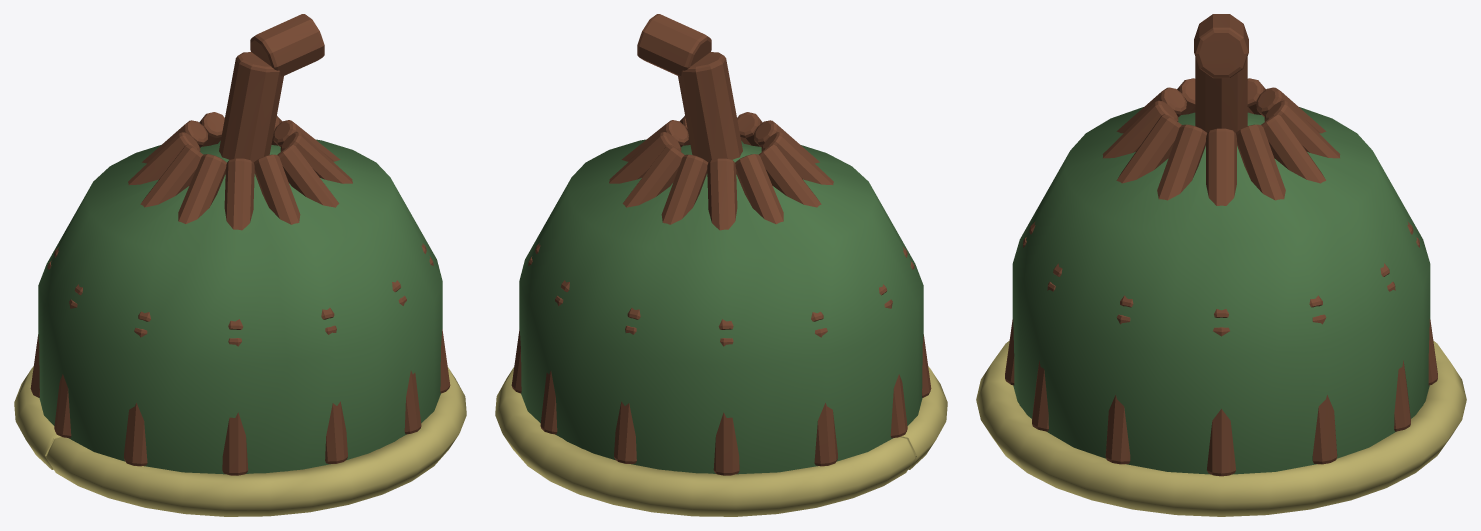
Rendered from item_070.glb.
The picture shows the model from 3 angles, left to right: view 1: azimuth 30°, elevation 25°; view 2: azimuth 150°, elevation 25°; view 3: azimuth 270°, elevation 25°; orthographic projection. The views are drawn at different scales.
Visible parts, largest first — view 1: Item_070_acorn_watchcap; view 2: Item_070_acorn_watchcap; view 3: Item_070_acorn_watchcap.
Part boxes in pixels (x1,y1,x2,y2): Item_070_acorn_watchcap: (14, 14, 466, 516); Item_070_acorn_watchcap: (495, 14, 947, 516); Item_070_acorn_watchcap: (976, 14, 1466, 516).
Bounding box in the file's own units: 0.3757 × 0.3595 × 0.376.
